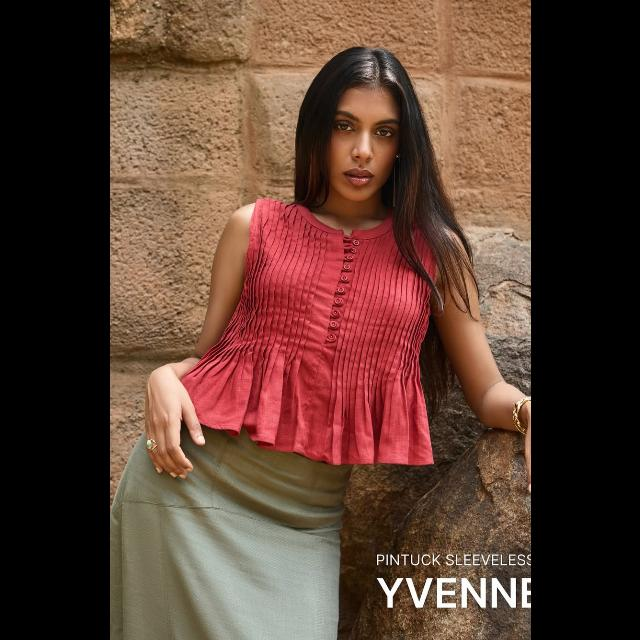bottom: (115, 438, 338, 640)
ring: (142, 434, 156, 452)
top: (227, 192, 437, 466)
